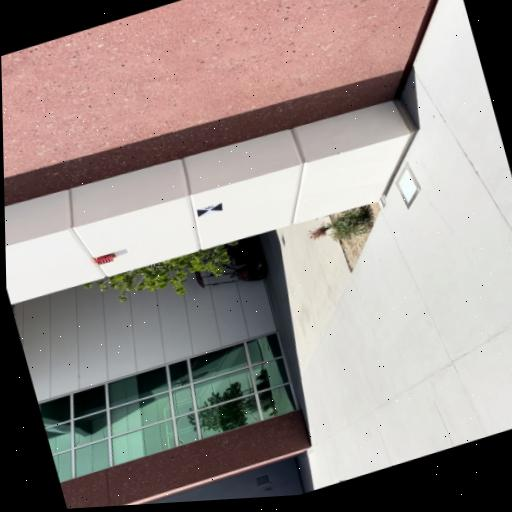target6: (196, 201, 223, 217)
